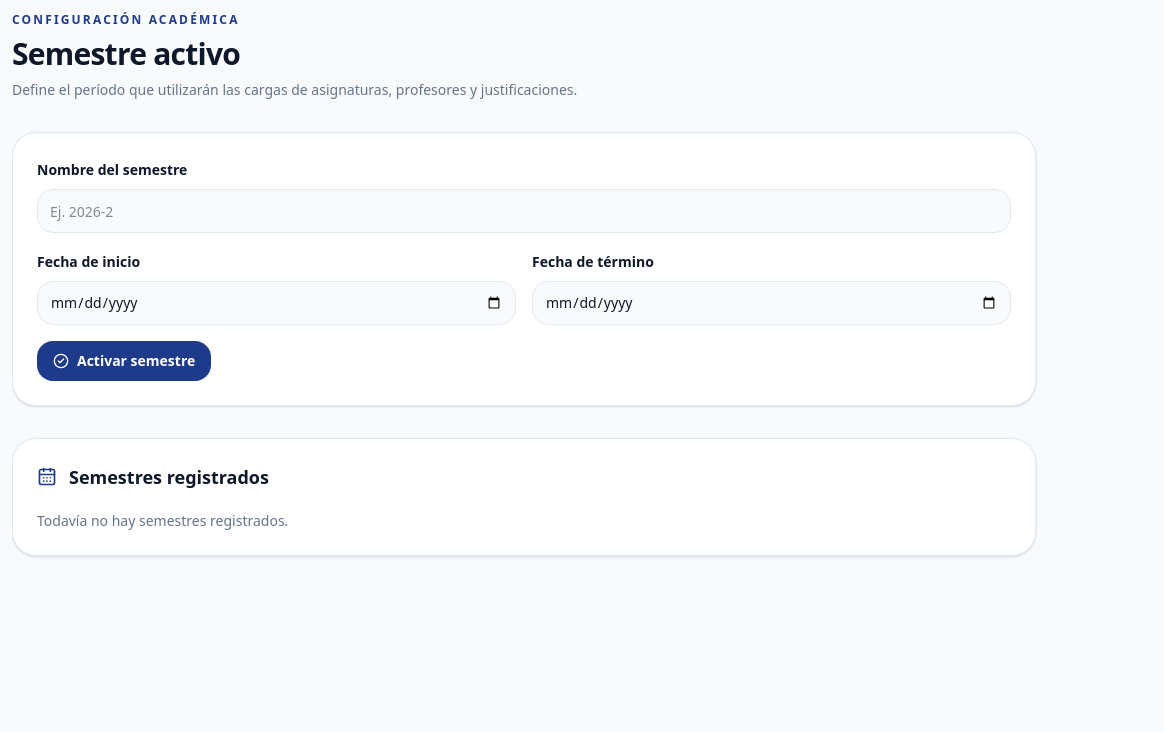
Test case: SettingsPage (semestre activo) › muestra el error de validación del backend al activar
Expected: the text "Todavía no hay semestres registrados." is shown, [37, 511, 288, 530]
Type "2027-1" into the field labelled "Nombre del semestre" at (524, 211), box [37, 189, 1011, 233]
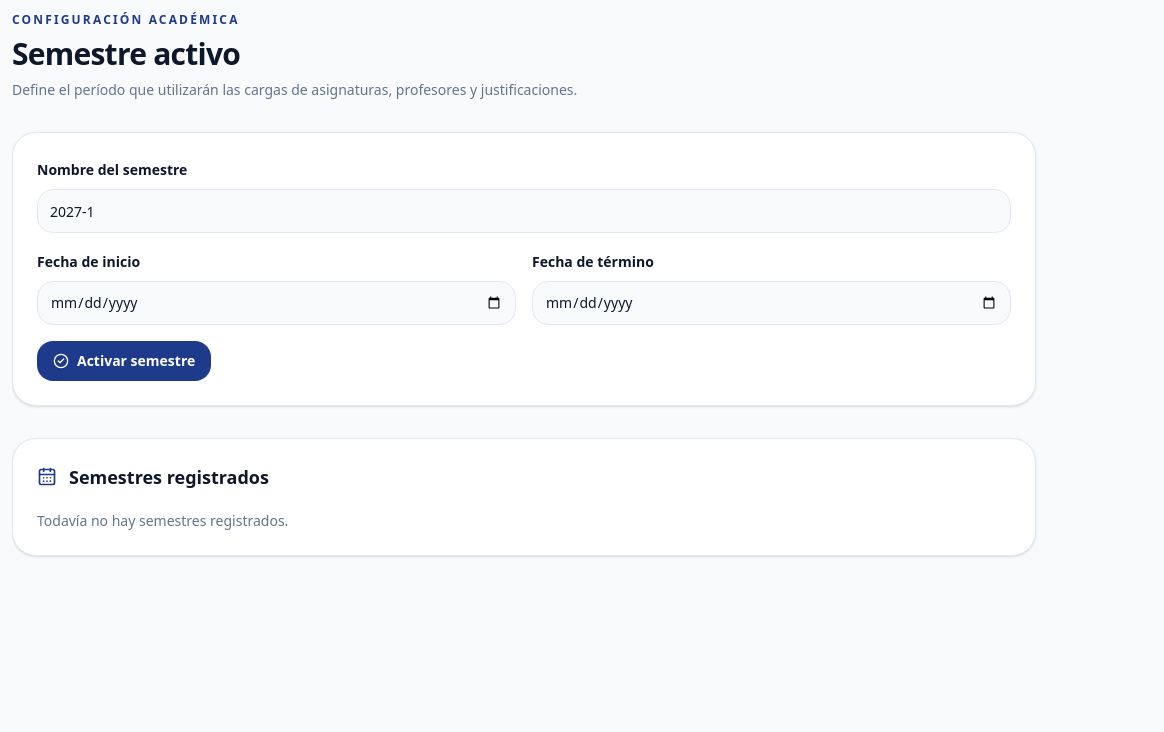
Type "2027-07-09" into the date field labelled "Fecha de inicio" at (276, 303), box [37, 281, 516, 325]
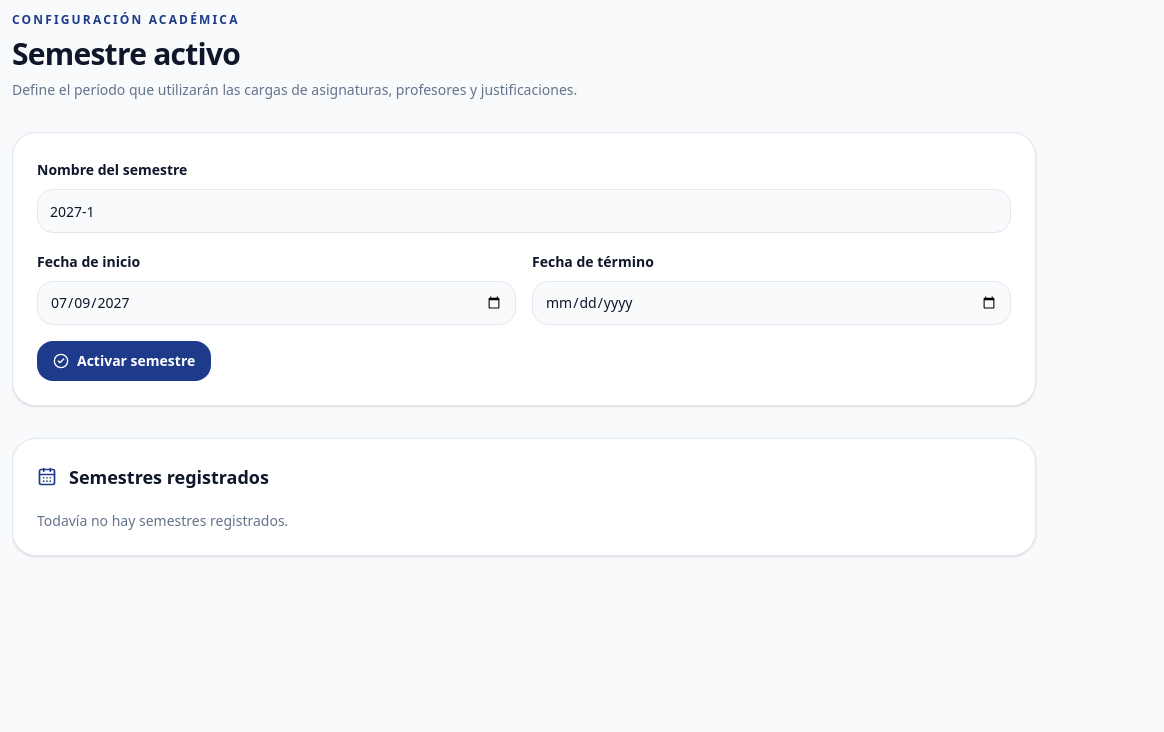
Type "2027-03-01" into the date field labelled "Fecha de término" at (772, 303), box [532, 281, 1011, 325]
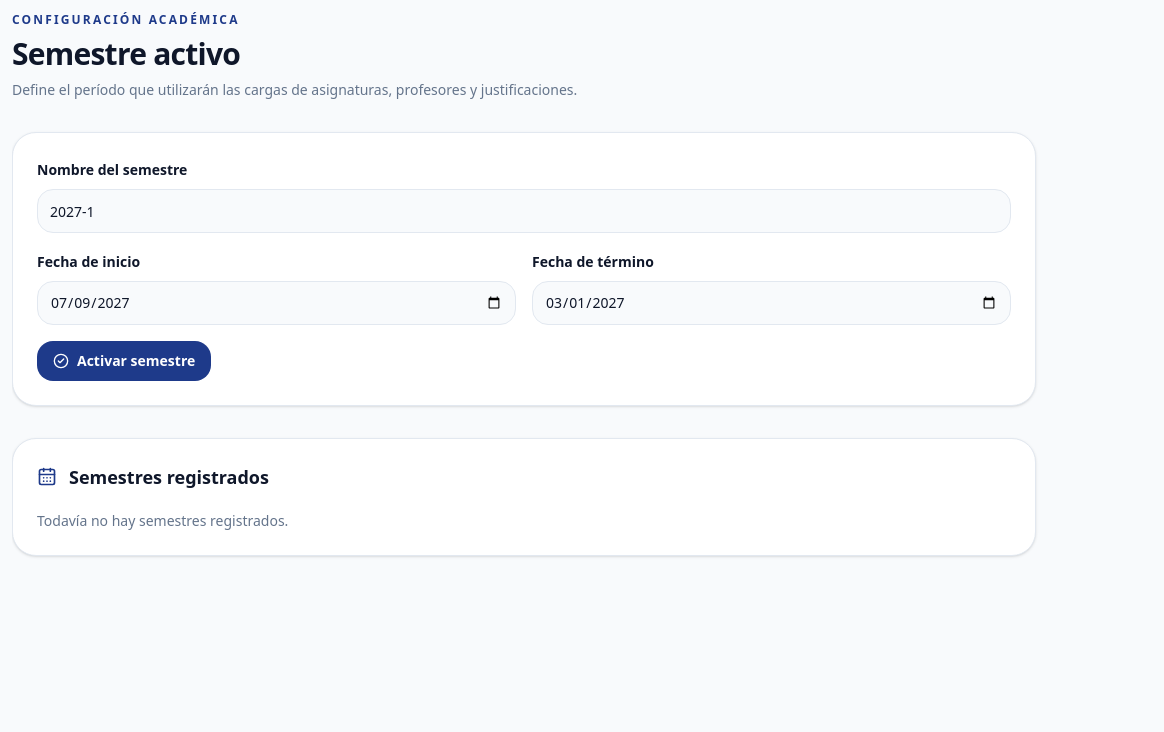
Click the button "Activar semestre" at (124, 361), box [37, 341, 211, 381]
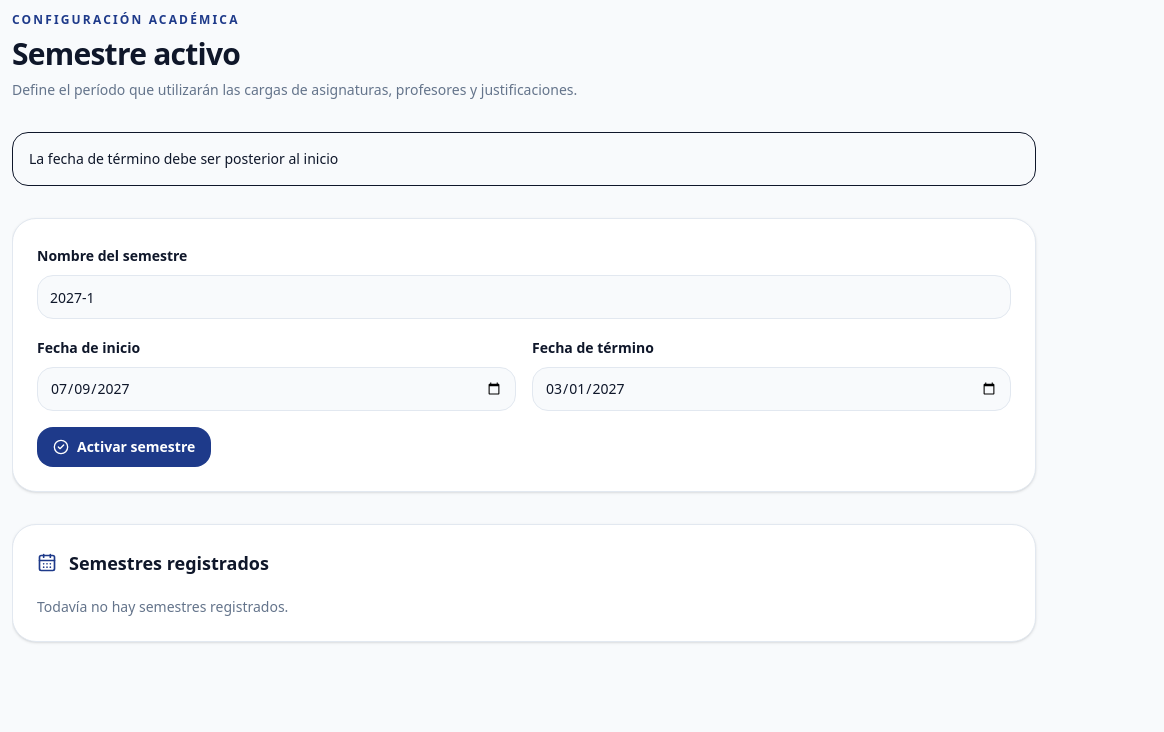
Expected: the text "La fecha de término debe ser posterior al inicio" is shown, [12, 132, 1036, 186]
